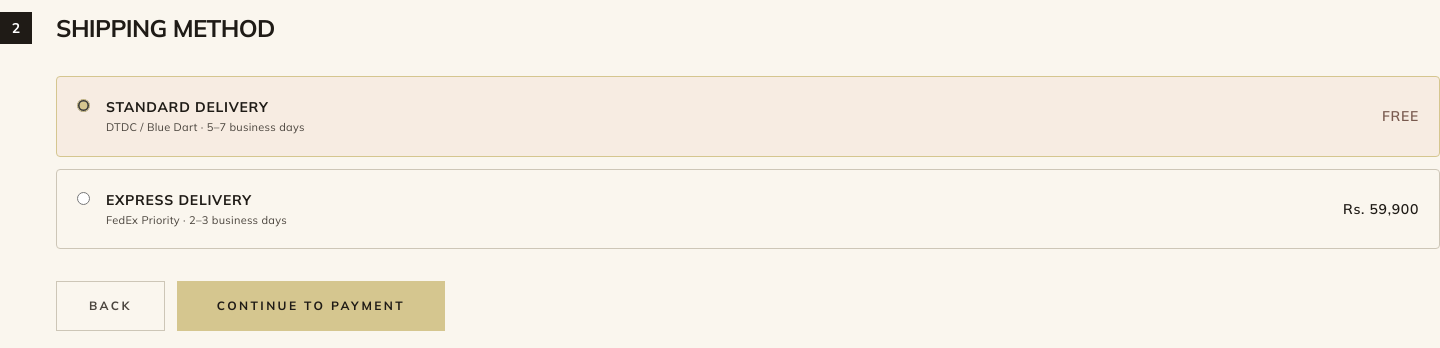
Test: ShippingStep › allows selecting a different option
The image size is (1440, 348).
Check: the label with test id "shipping-option-ship_express" is shown, box [56, 168, 1439, 249]
Click the radio button with test id "shipping-radio-ship_express".
click(84, 198)  # box [77, 192, 90, 204]
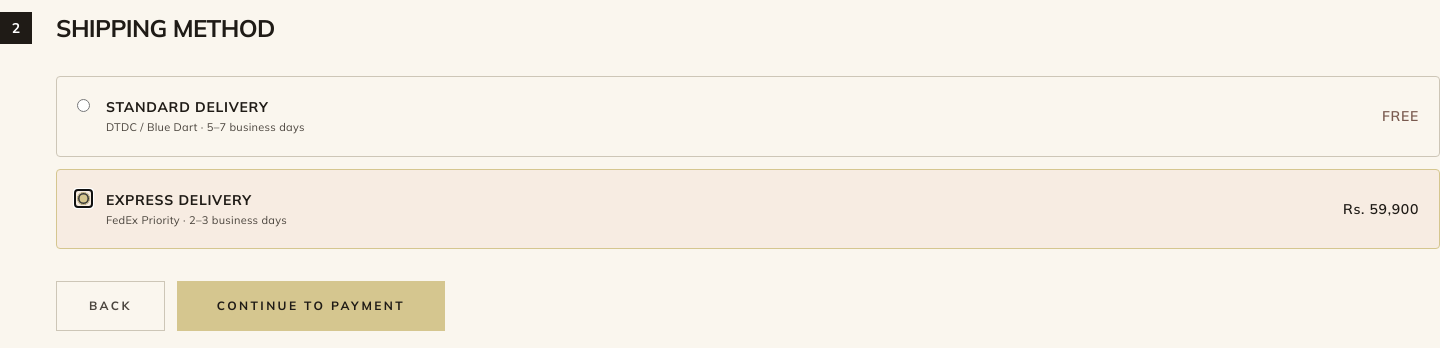
Check: the radio button with test id "shipping-radio-ship_express" is checked, box [77, 192, 90, 204]
Check: the radio button with test id "shipping-radio-ship_standard" is not checked, box [77, 99, 90, 112]
